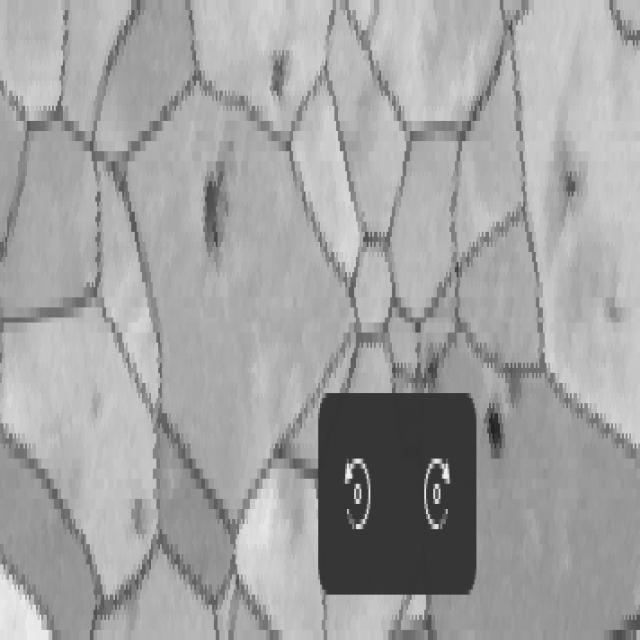good_void: (195, 140, 227, 277), (261, 29, 298, 110), (482, 391, 510, 469), (602, 283, 634, 339), (558, 161, 590, 213), (419, 336, 446, 386), (131, 486, 152, 550), (502, 358, 524, 411), (87, 377, 109, 428)
